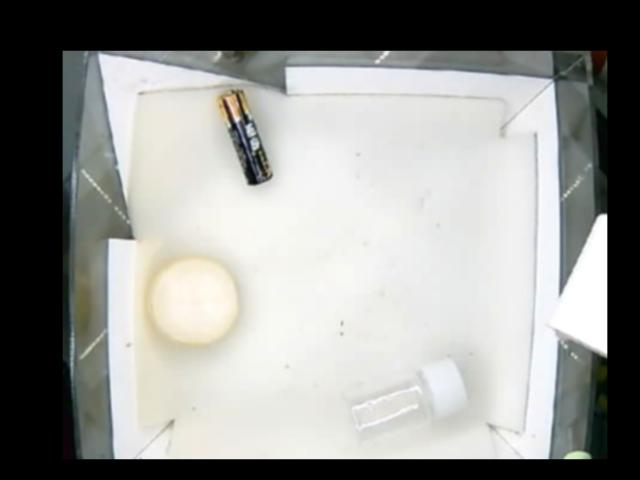Battery: (221, 89, 274, 186)
Bottle: (342, 353, 471, 440)
Mooli: (150, 255, 237, 344)
